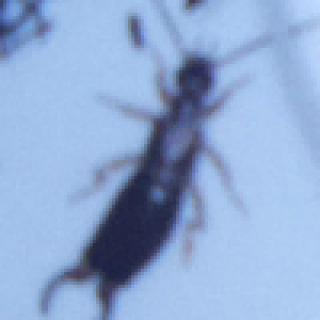earwig: (38, 0, 317, 320)
